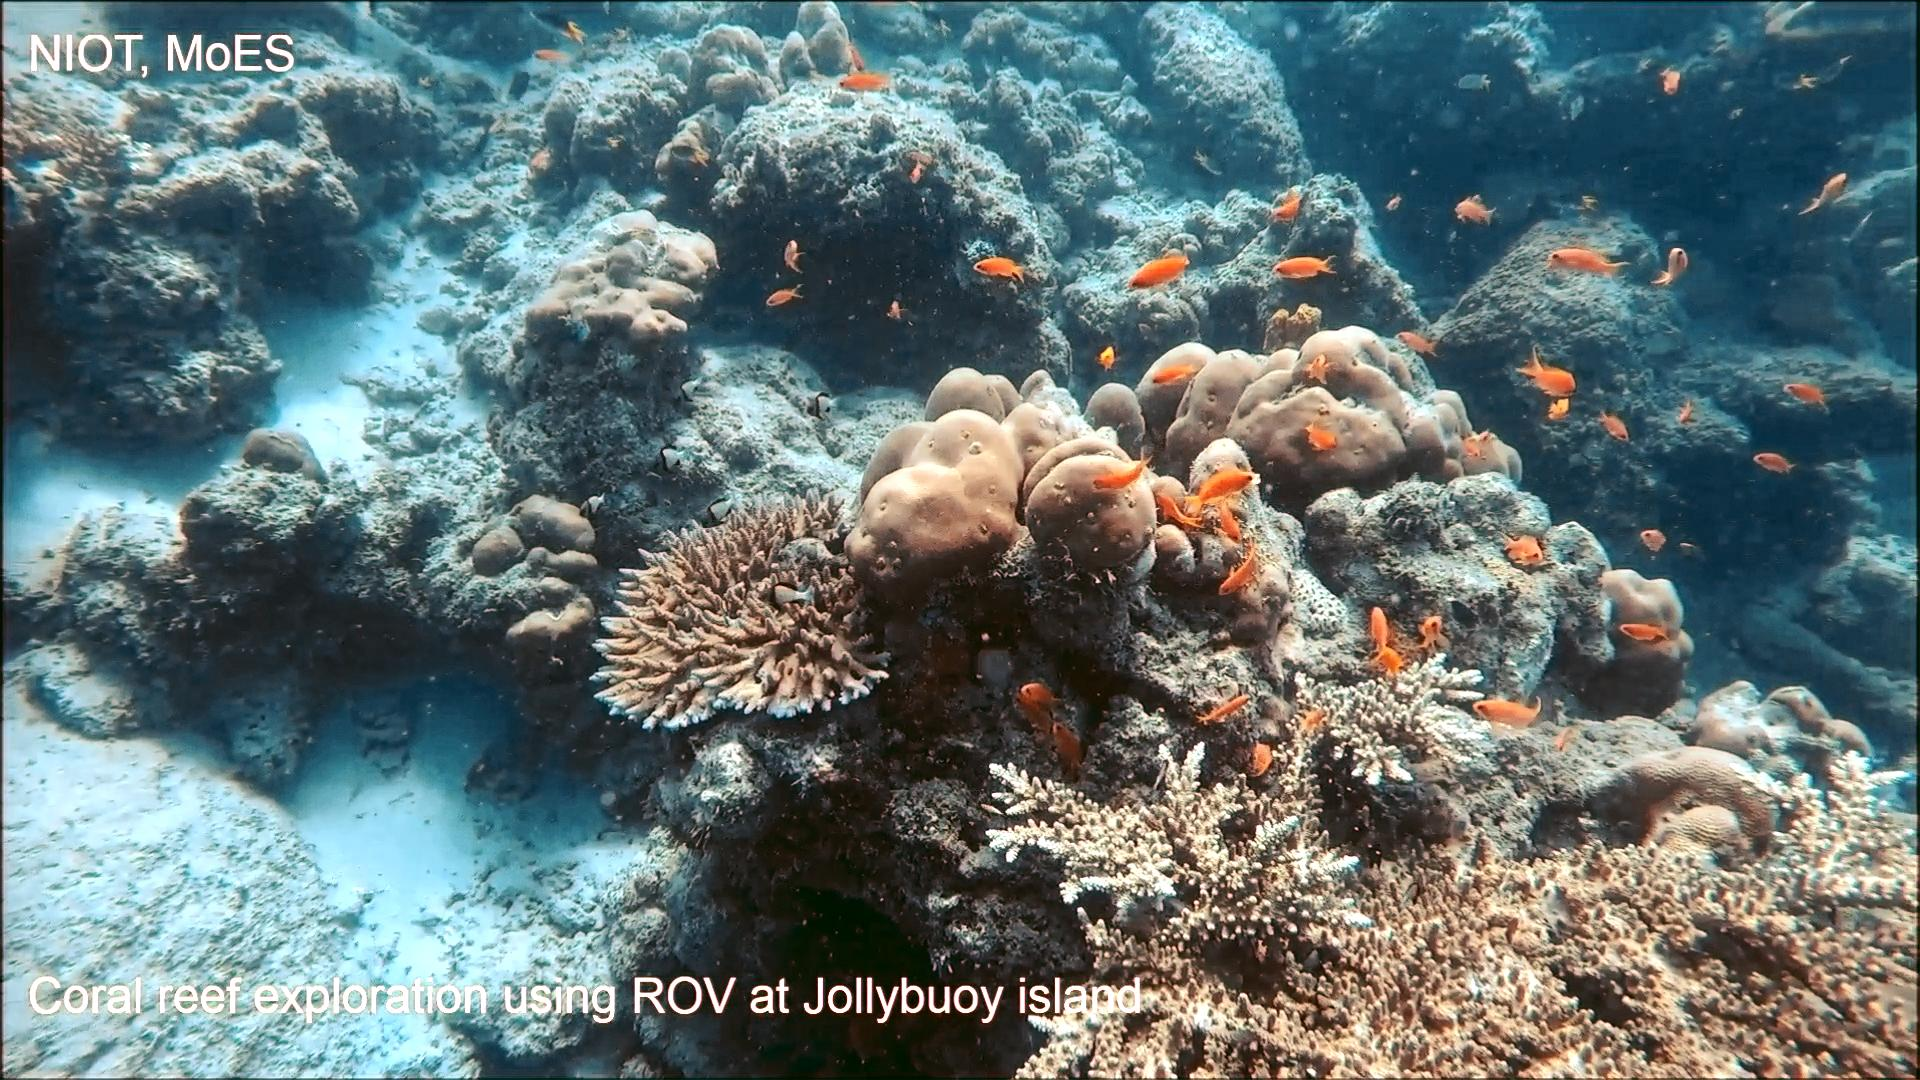Porites-Porites pukoensis: (837, 362, 1164, 625), (1113, 324, 1534, 498)
